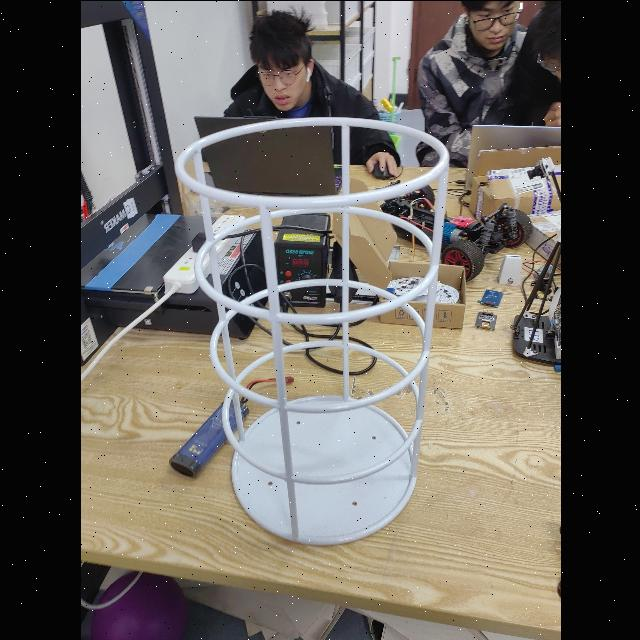S: (169, 115, 451, 545)
